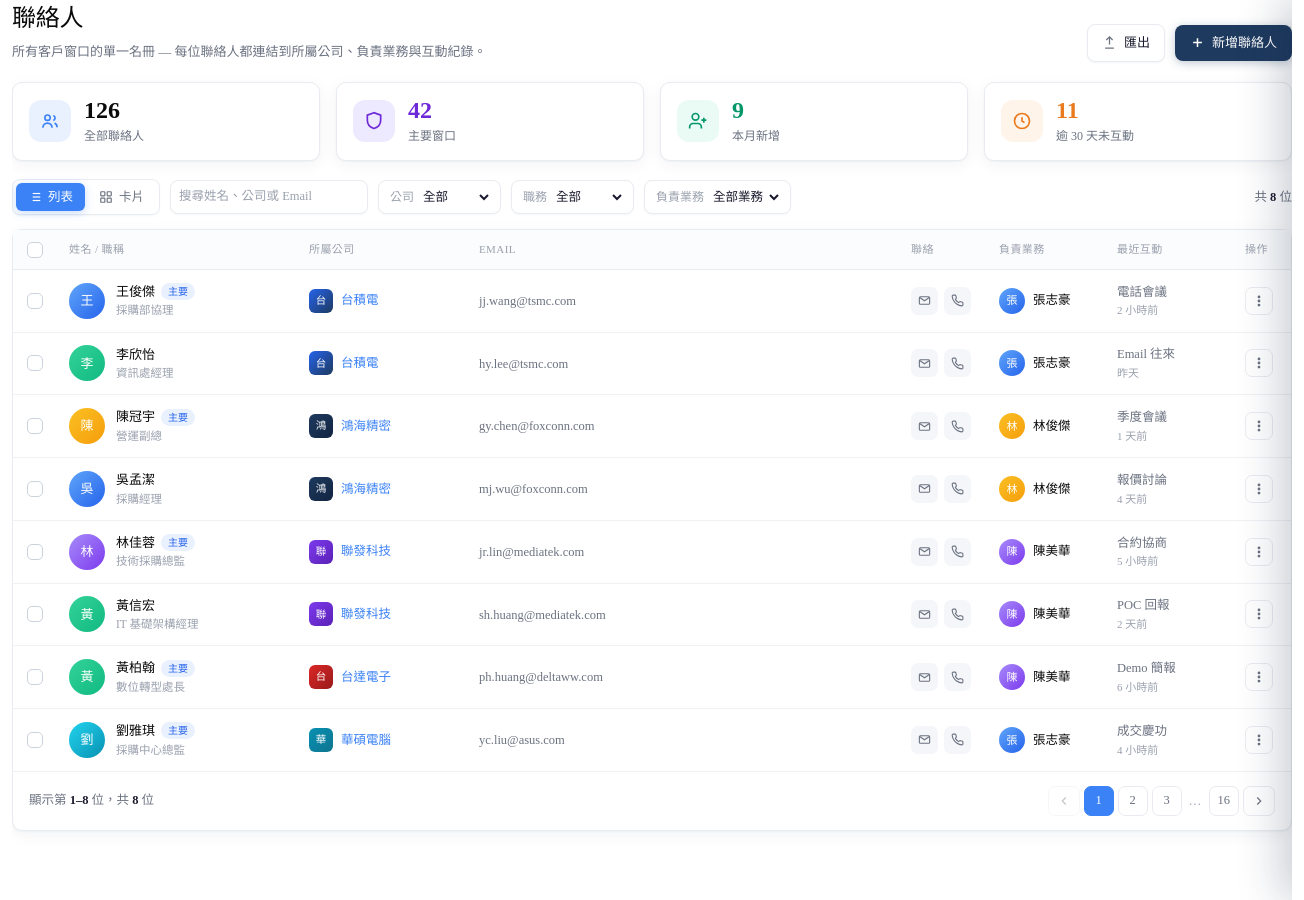
Contacts 搜尋 › 清空關鍵字後還原全部
Type "佳蓉" into the search field named "搜尋聯絡人" at (269, 197), box [179,181,359,213]
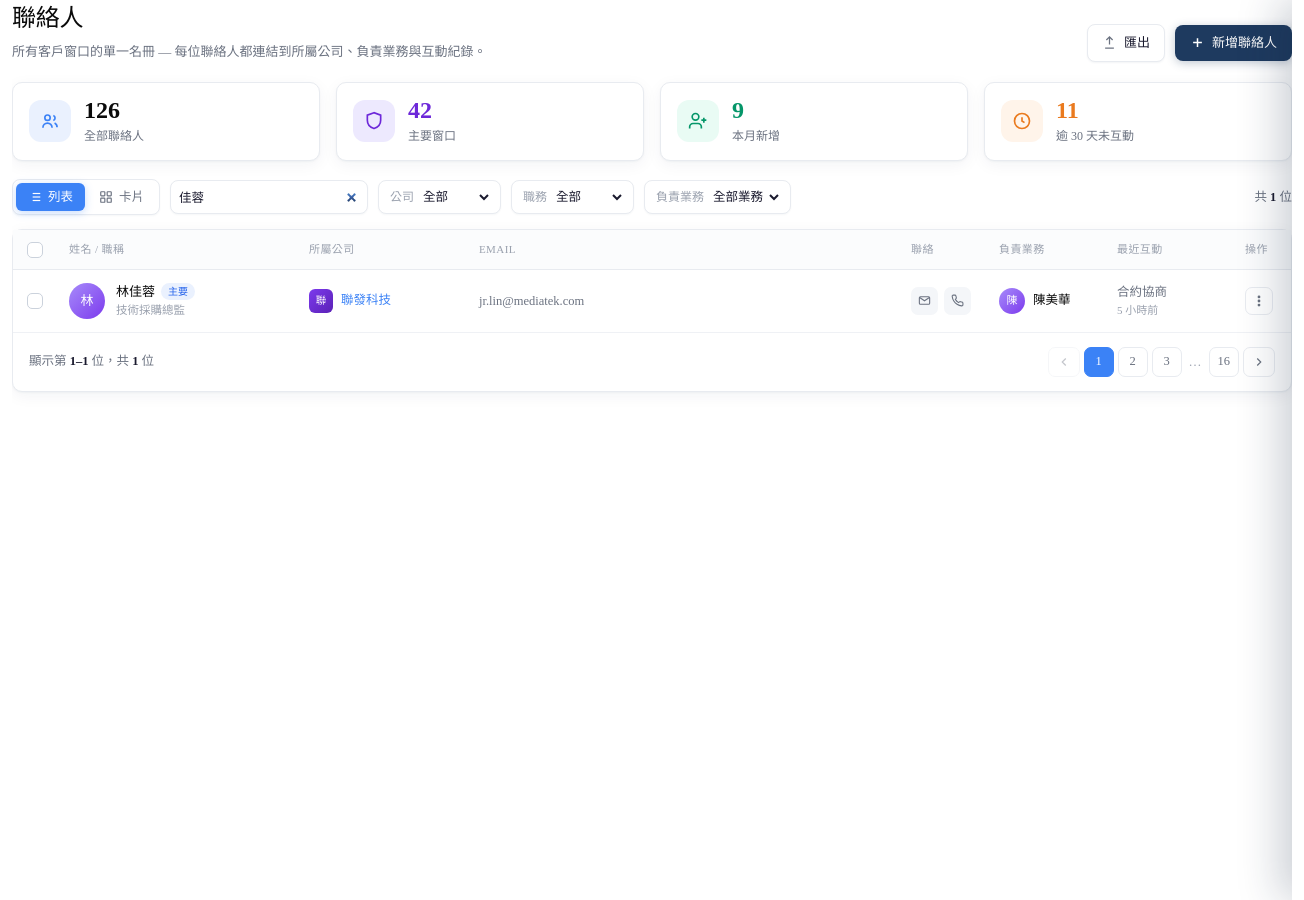
Clear the search field named "搜尋聯絡人" at (269, 197), box [179,181,359,213]
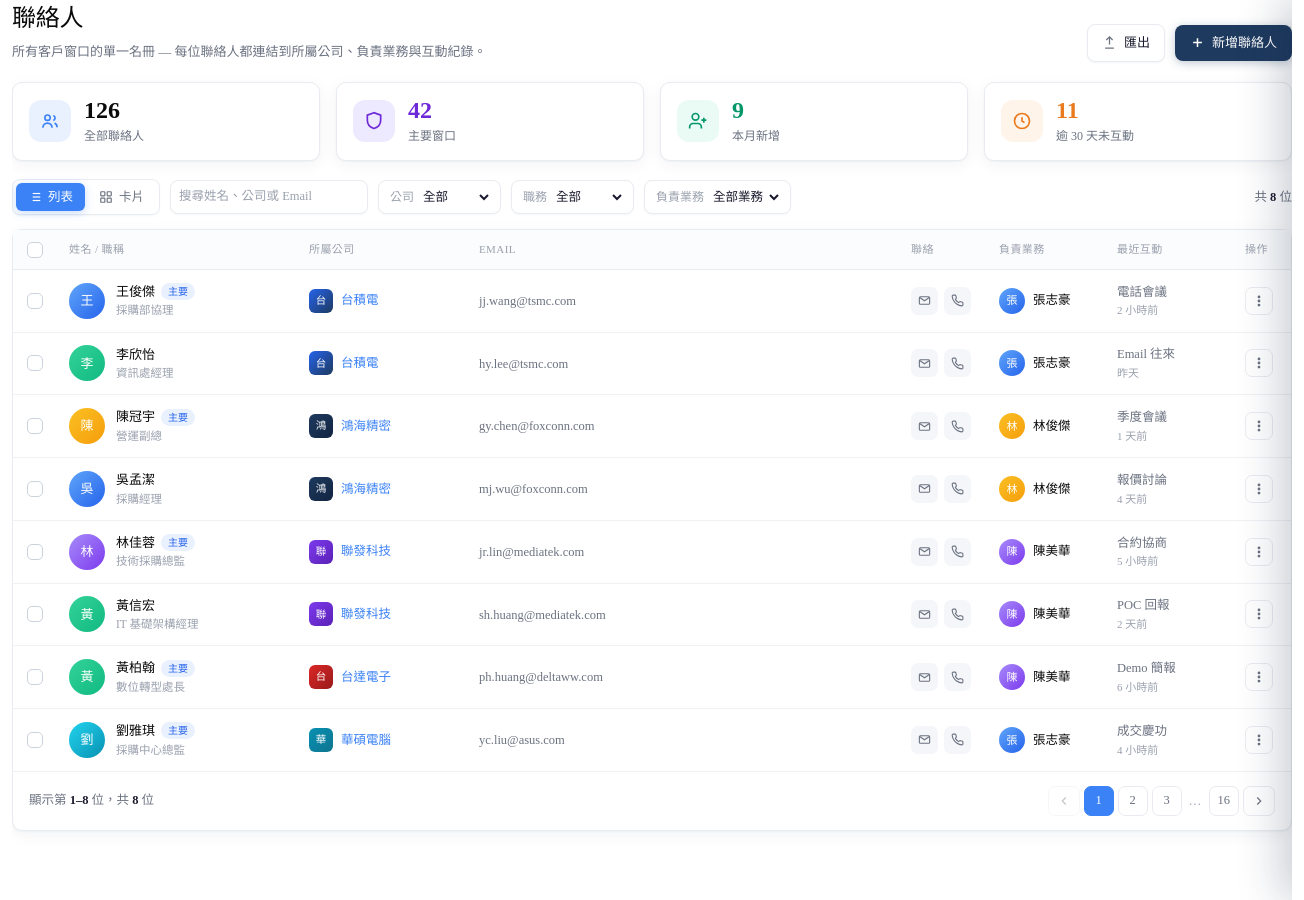
Expected: the text "林佳蓉" is shown, [116,535,155,550]
Expected: the text "王俊傑" is shown, [116,284,155,299]
